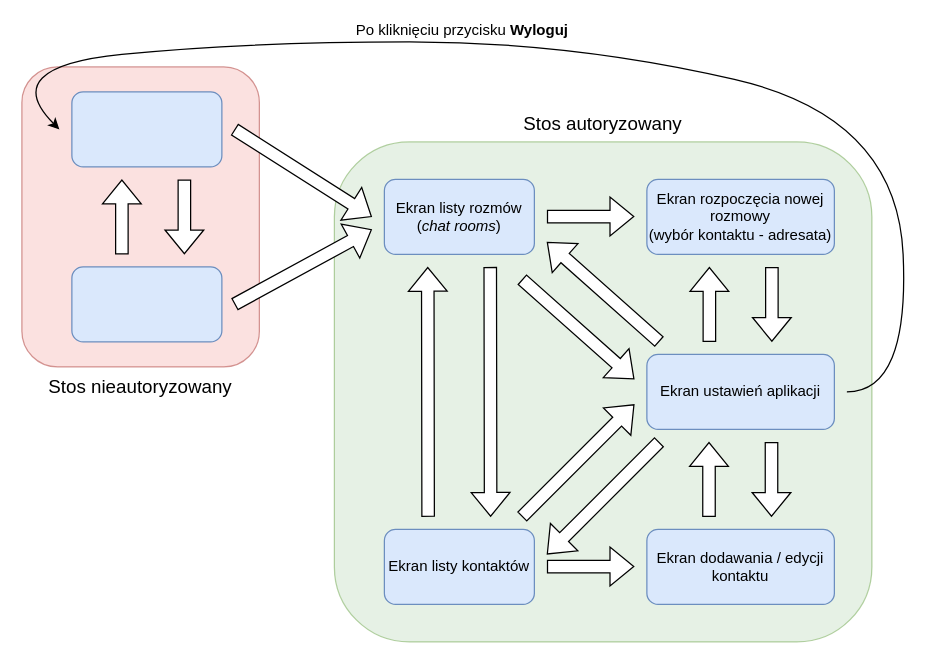
The diagram is 926 pixels wide and 664 high, and some of its shapes have lost their labels. The centre of each missing label's shape, as x and y in pixels:
"Ekran logowania" goes at (146,129).
"Ekran rejestracji" goes at (146,304).
